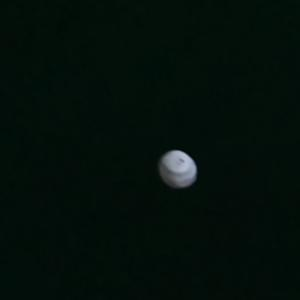ball: (156, 148, 200, 192)
